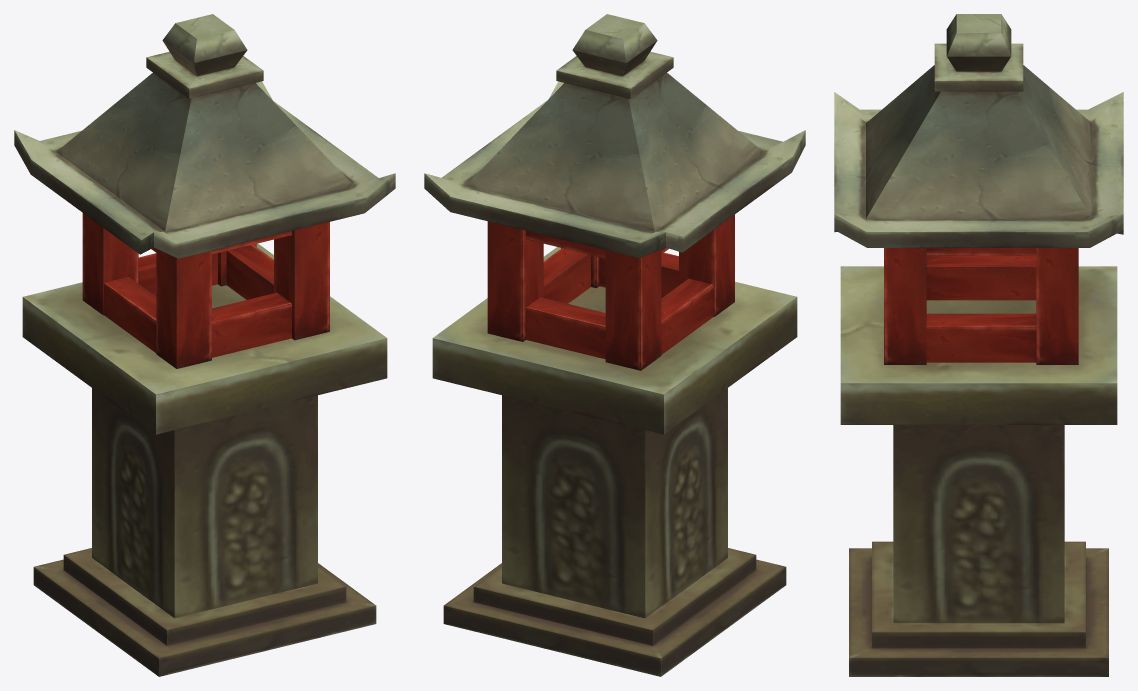
File: shideng.FBX
3 renders of one model, left to right at view 1: azimuth 30°, elevation 25°; view 2: azimuth 150°, elevation 25°; view 3: azimuth 270°, elevation 25°, orthographic. The views are drawn at different scales.
Visible parts, largest first — view 1: shideng; view 2: shideng; view 3: shideng.
Part boxes in pixels (box(x1,y1,x2,y2)): shideng: box(14, 14, 395, 676); shideng: box(424, 14, 805, 676); shideng: box(834, 14, 1123, 676).
Bounding box in the file's own units: 4.09 × 4.09 × 9.35.
